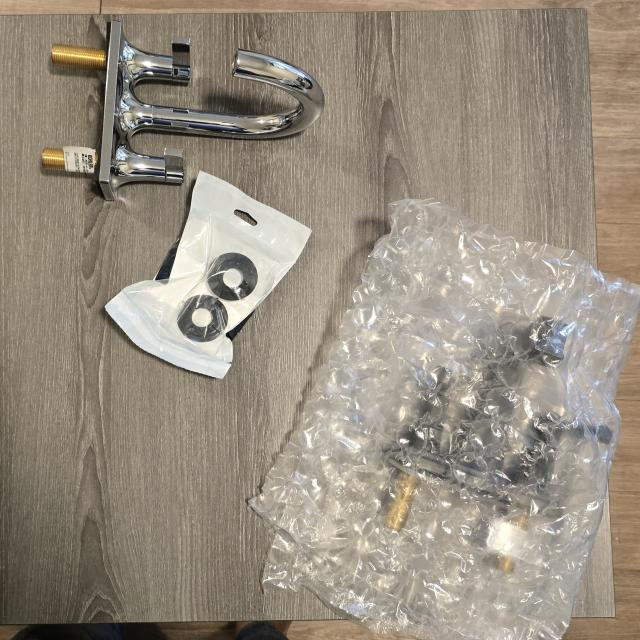10: (42, 21, 324, 201)
13: (106, 172, 311, 378)
9c: (249, 199, 640, 640)
